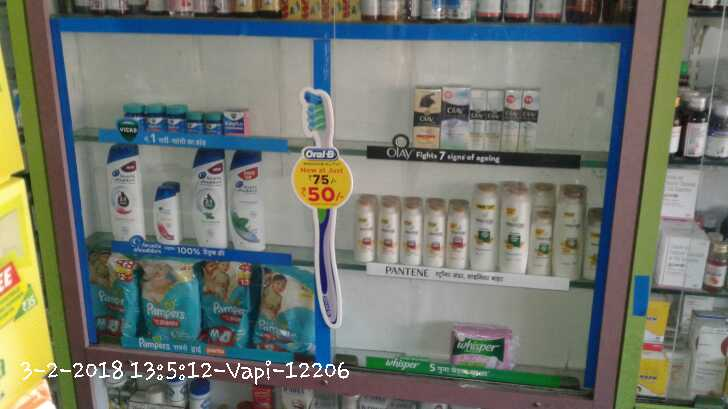beauty: (188, 145, 228, 247), (102, 143, 142, 244), (228, 151, 265, 253), (554, 181, 582, 280), (526, 179, 552, 274), (470, 183, 498, 270), (502, 183, 527, 272), (438, 84, 467, 153), (410, 89, 443, 149), (444, 196, 470, 271), (418, 200, 446, 267), (155, 185, 182, 241), (352, 194, 372, 264), (398, 203, 420, 264), (519, 85, 538, 155), (377, 198, 397, 261), (469, 85, 485, 153), (503, 86, 519, 154), (485, 89, 501, 155)
pharmacy: (256, 270, 319, 360), (137, 258, 197, 341), (198, 255, 250, 345), (446, 324, 522, 373), (220, 106, 250, 131), (165, 102, 185, 130), (203, 107, 223, 133), (147, 104, 166, 128), (185, 109, 203, 134)
